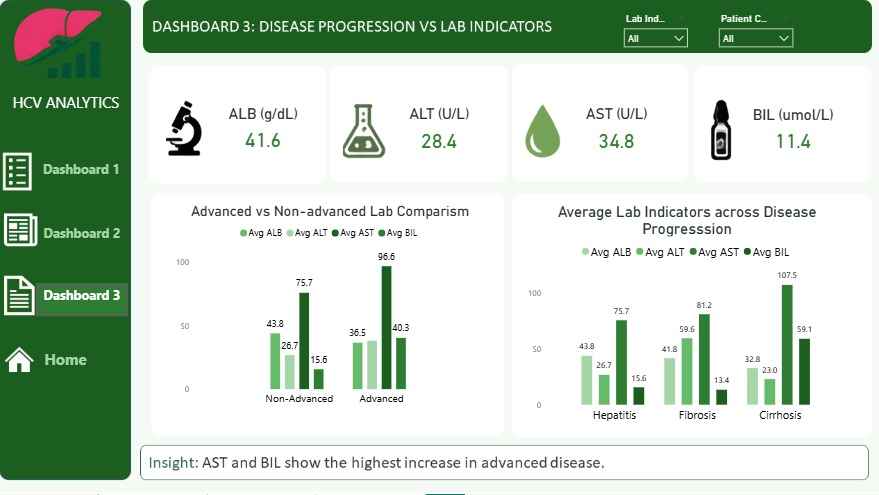

The dashboard page shown, as its layout file describes it:
{"tool":"powerbi","page":{"name":"Dashboard 3","canvas":[1280,720],"ordinal":2},"visuals":[{"type":"card","title":"ALB (g/dL)","fields":{"Values":["Hepatitis Measures.Avg ALB"]},"box":[319.7,159.8,141.1,73.4],"z":0},{"type":"card","title":"ALT (U/L)","fields":{"Values":["Hepatitis Measures.Avg ALT"]},"box":[573.1,159.8,141.1,74.9],"z":1000},{"type":"card","title":"AST (U/L)","fields":{"Values":["Hepatitis Measures.Avg AST"]},"box":[829.4,159.8,139.7,74.9],"z":2000},{"type":"card","title":"BIL (umol/L)","fields":{"Values":["Hepatitis Measures.Avg BIL"]},"box":[1082.9,161.3,141.1,73.4],"z":3000},{"type":"clusteredColumnChart","title":"Average Lab Indicators across Disease Progresssion","fields":{"Category":["Hepatitis Project.Patient Category"],"Y":["Hepatitis Measures.Avg ALB","Hepatitis Measures.Avg ALT","Hepatitis Measures.Avg AST","Hepatitis Measures.Avg BIL"]},"box":[766.1,301,469.4,325.4],"z":4000},{"type":"slicer","fields":{"Values":["Lab Indicator.Lab Indicator"]},"box":[900,21.6,112.3,57.6],"z":5000},{"type":"clusteredColumnChart","title":"Advanced vs Non-advanced Lab Comparism","fields":{"Y":["Hepatitis Measures.Avg ALB","Hepatitis Measures.Avg ALT","Hepatitis Measures.Avg AST","Hepatitis Measures.Avg BIL"],"Category":["Hepatitis Project.Disease Stage"]},"box":[259.2,301,455,302.4],"z":6000},{"type":"slicer","fields":{"Values":["Hepatitis Project.Patient Category"]},"box":[1036.8,21.6,126.7,57.6],"z":7000},{"type":"textbox","box":[63.4,506.9,85,46.1],"z":8000},{"type":"textbox","box":[63.4,416.2,132.5,47.5],"z":9000},{"type":"textbox","box":[73.4,326.9,122.4,44.6],"z":10000},{"type":"textbox","box":[63.4,234.7,131,47.5],"z":11000},{"type":"textbox","box":[18.7,136.8,175.7,41.8],"z":12000},{"type":"actionButton","box":[63.4,233.3,131,37.4],"z":12001},{"type":"actionButton","box":[79.2,319.7,115.2,51.8],"z":12002},{"type":"actionButton","box":[63.4,420.5,132.5,43.2],"z":12003}]}

Visuals, with their boxes on the page's 1280x720 design canvas (x1, y1, x2, y2). These are canvas units, not pixel positions in the 879x495 screenshot, which may show the page scaled, cropped or inside an application window:
"ALB (g/dL)" card: (320, 160, 461, 233)
"ALT (U/L)" card: (573, 160, 714, 235)
"AST (U/L)" card: (829, 160, 969, 235)
"BIL (umol/L)" card: (1083, 161, 1224, 235)
"Average Lab Indicators across Disease Progresssion" clusteredColumnChart: (766, 301, 1236, 626)
slicer - Lab Indicator.Lab Indicator: (900, 22, 1012, 79)
"Advanced vs Non-advanced Lab Comparism" clusteredColumnChart: (259, 301, 714, 603)
slicer - Hepatitis Project.Patient Category: (1037, 22, 1164, 79)
textbox: (63, 507, 148, 553)
textbox: (63, 416, 196, 464)
textbox: (73, 327, 196, 372)
textbox: (63, 235, 194, 282)
textbox: (19, 137, 194, 179)
actionButton: (63, 233, 194, 271)
actionButton: (79, 320, 194, 372)
actionButton: (63, 420, 196, 464)
